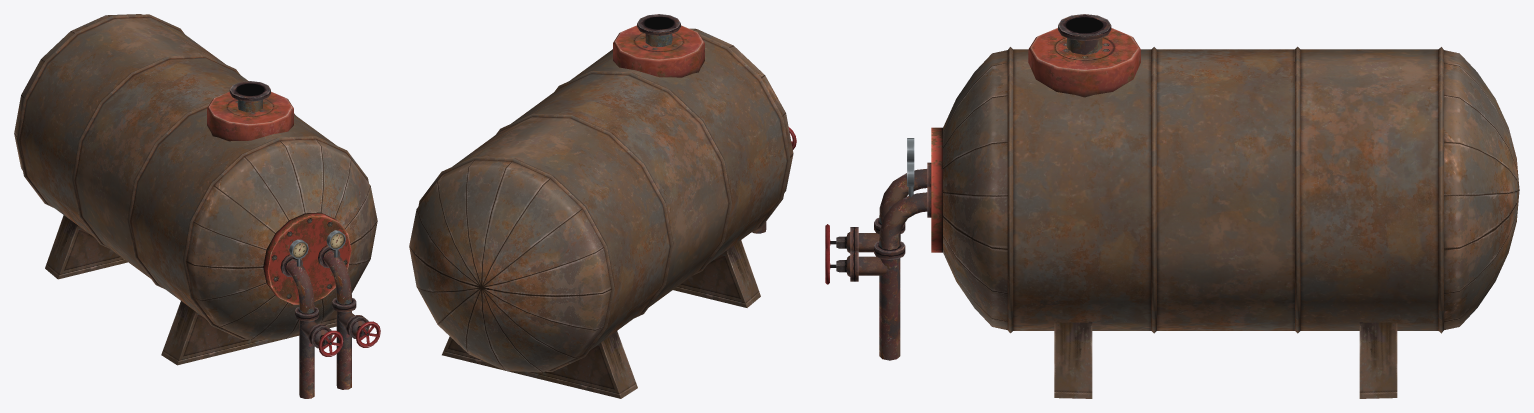
File: industrialBoiler01.fbx
3 renders of one model, left to right at view 1: azimuth 30°, elevation 25°; view 2: azimuth 150°, elevation 25°; view 3: azimuth 270°, elevation 25°, orthographic. The views are drawn at different scales.
Visible parts, largest first — view 1: industrialBoiler01, industrialBoiler01_valve02, industrialBoiler01_valve01; view 2: industrialBoiler01; view 3: industrialBoiler01.
Part boxes in pixels (x1,y1,x2,y2): industrialBoiler01: [14, 14, 377, 398]; industrialBoiler01_valve02: [356, 321, 380, 347]; industrialBoiler01_valve01: [318, 330, 343, 356]; industrialBoiler01: [409, 14, 793, 398]; industrialBoiler01: [836, 14, 1519, 398].
Bounding box in the file's own units: 204 × 250 × 493.
